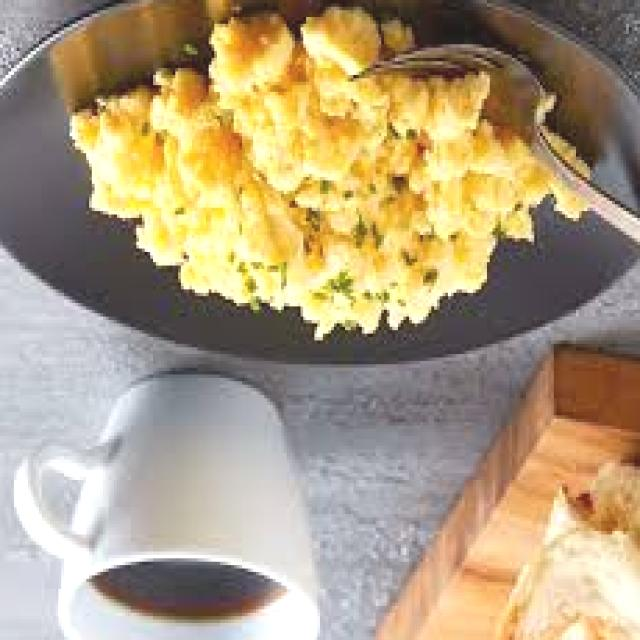telur_orak_arik: (69, 33, 545, 324)
